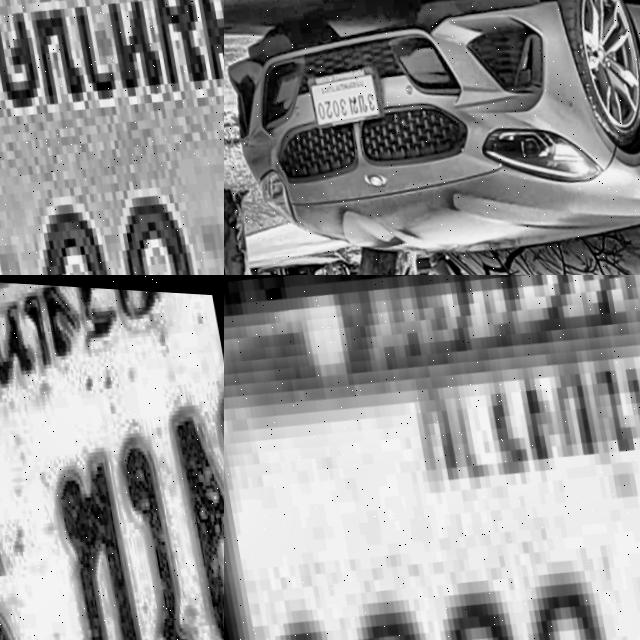license-plate: (224, 275, 640, 640), (0, 275, 224, 640), (0, 0, 224, 275), (301, 55, 385, 129)
